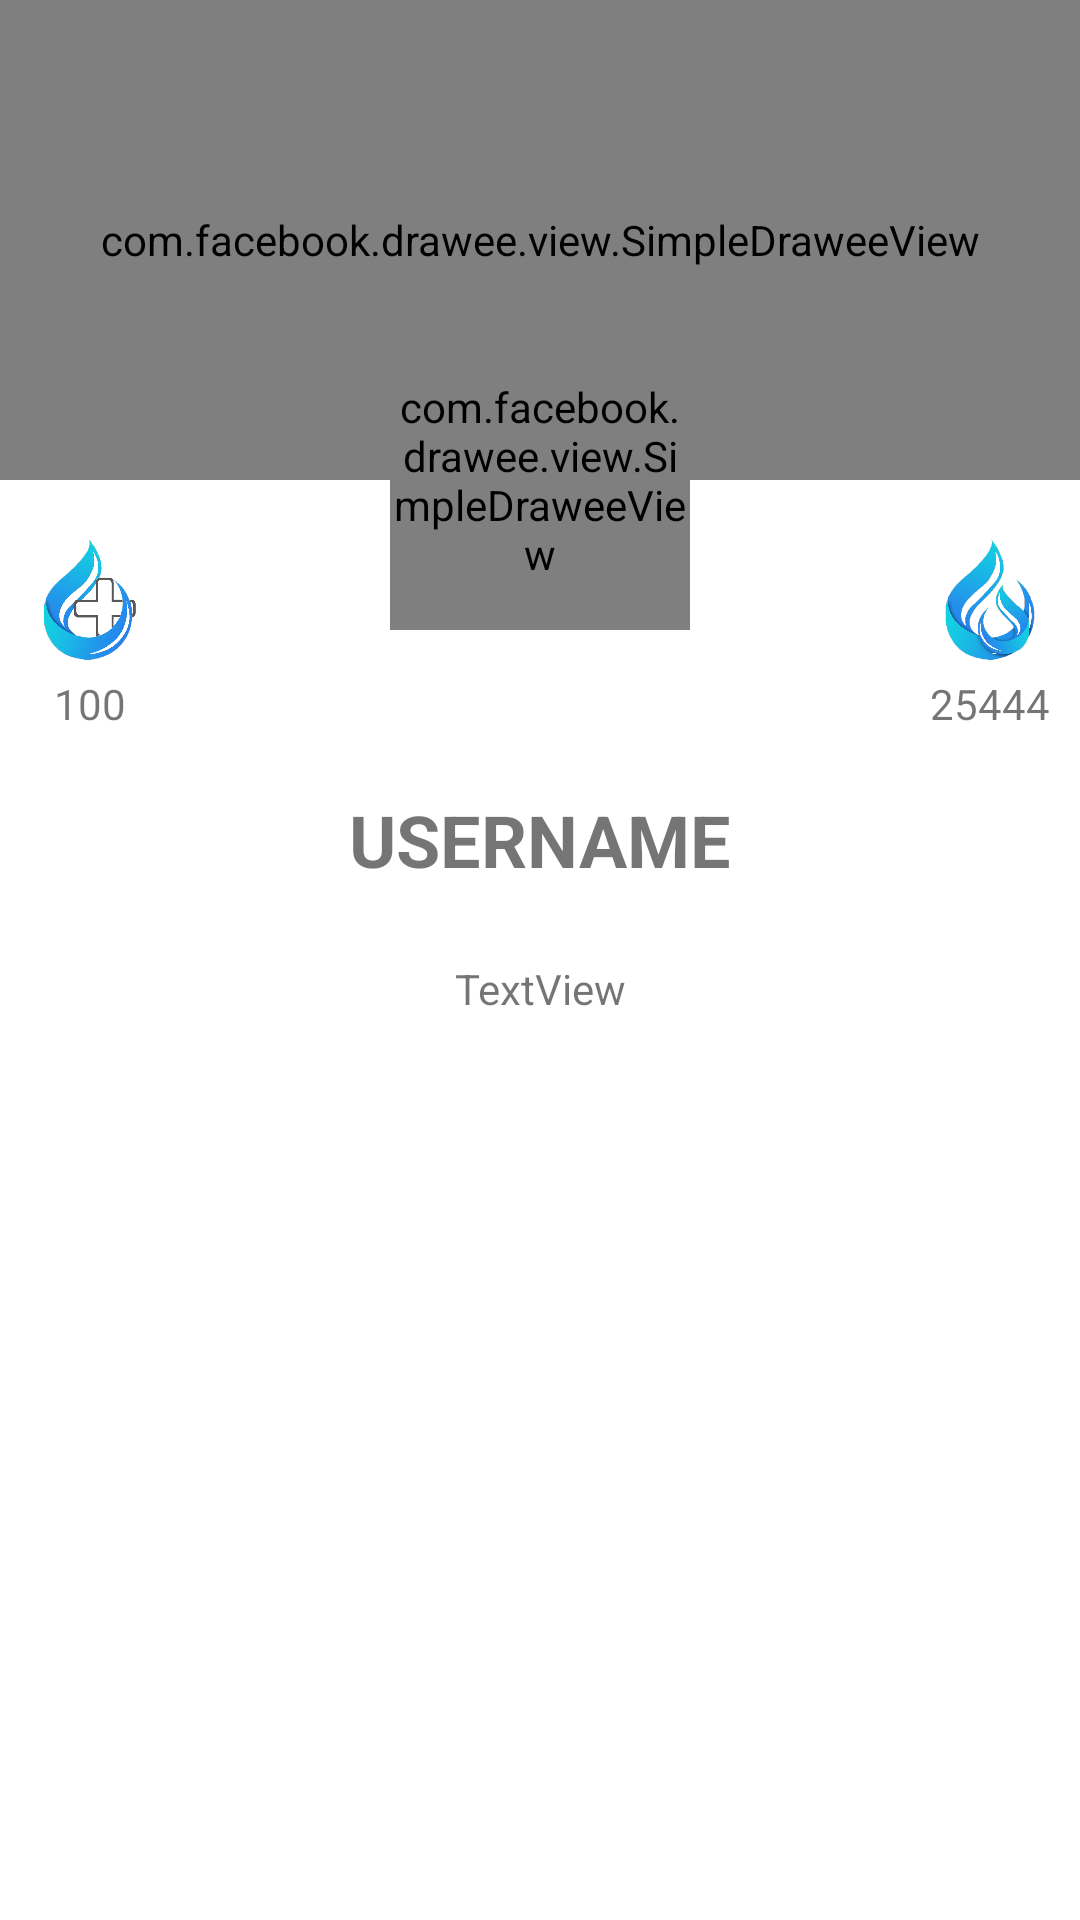

Icons on this 1080*1920 Android screen, each with its box as (x1, y1, x2, y2):
dropsworld add: (44, 540, 136, 660)
dropworld: (945, 540, 1035, 660)
